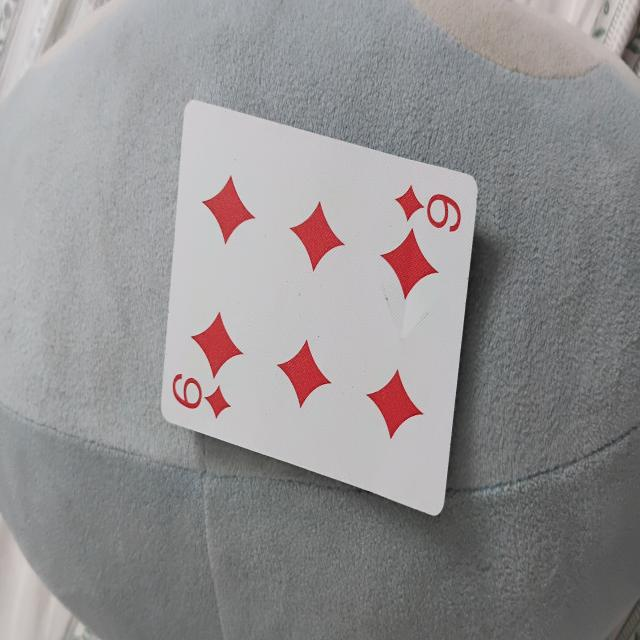6D: (158, 123, 485, 518)
